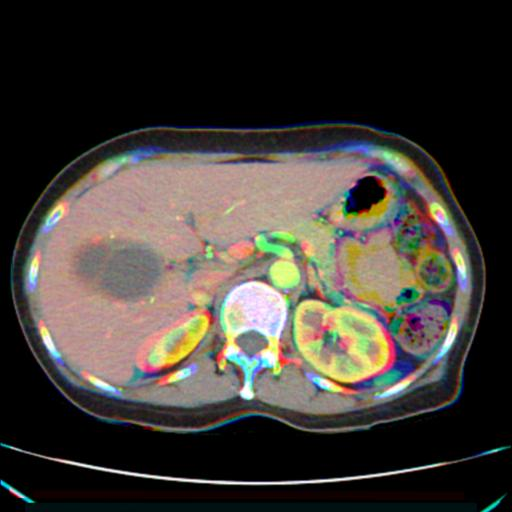Abscess: (72, 239, 161, 300)
